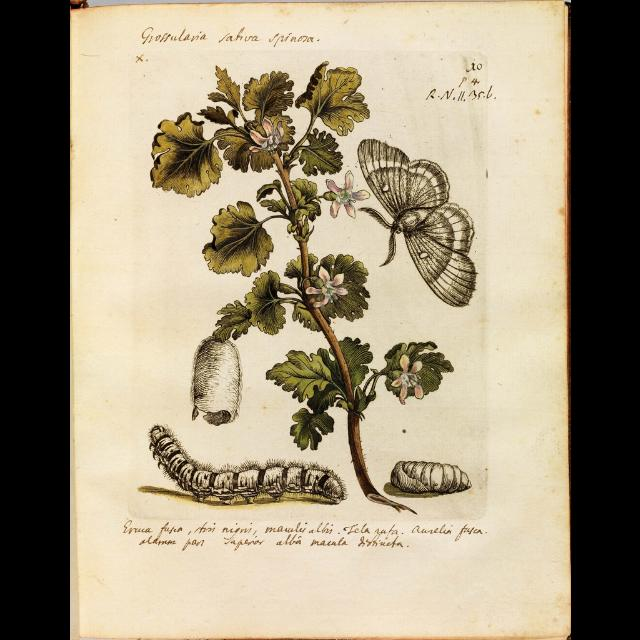Flower: (324, 170, 372, 218), (246, 116, 294, 156), (305, 265, 343, 315), (390, 356, 428, 404)
